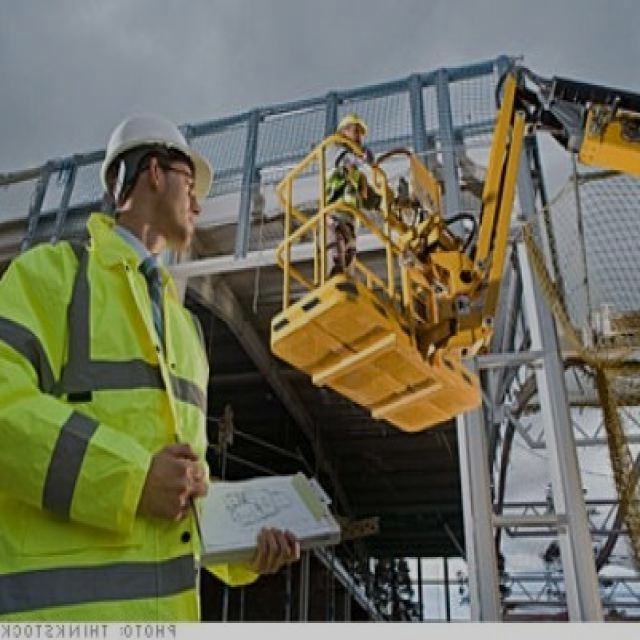Con_Chaleco: (0, 221, 202, 605)
